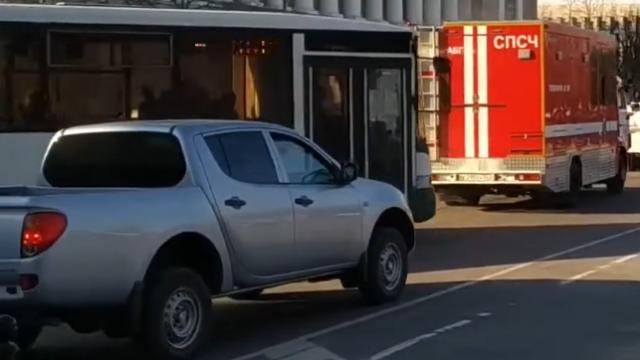fire fighting vehicle: (411, 17, 627, 206)
non emergency car: (0, 118, 416, 360), (1, 3, 436, 229)
